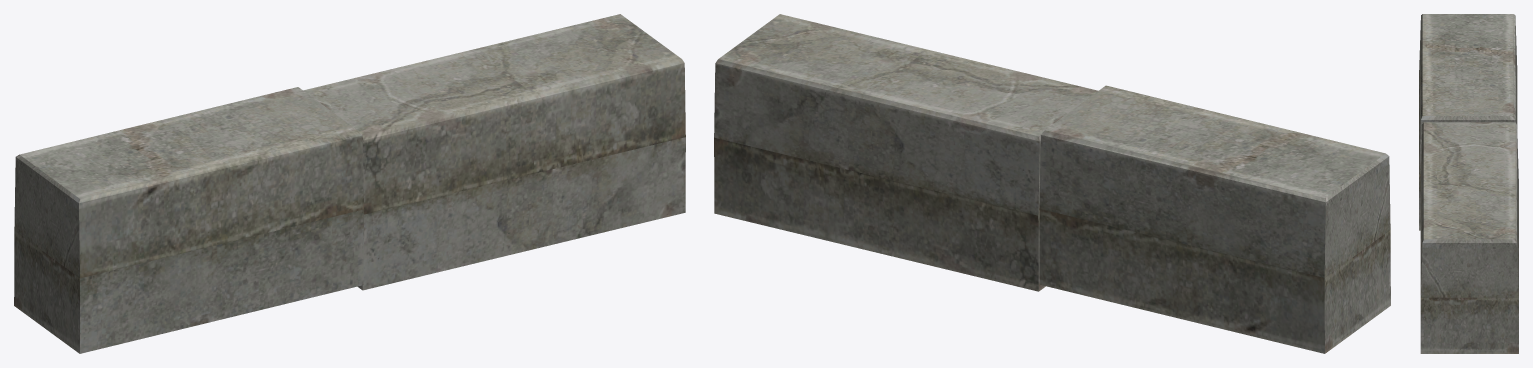
File: bg_lut_lucastle_floorfence02_sm_jjy.FBX
3 views of the same model, side by side, from view 1: azimuth 30°, elevation 25°; view 2: azimuth 150°, elevation 25°; view 3: azimuth 270°, elevation 25° (orthographic). The views are drawn at different scales.
Parts seen in each view (by area): view 1: bg_lut_lucastle_floorfence02_sm_jjy; view 2: bg_lut_lucastle_floorfence02_sm_jjy; view 3: bg_lut_lucastle_floorfence02_sm_jjy.
Part boxes in pixels (x1,y1,x2,y2): bg_lut_lucastle_floorfence02_sm_jjy: (14,14,685,353); bg_lut_lucastle_floorfence02_sm_jjy: (714,14,1390,353); bg_lut_lucastle_floorfence02_sm_jjy: (1419,14,1518,353).
Bounding box in the file's own units: 256 × 64.54 × 48.74.
